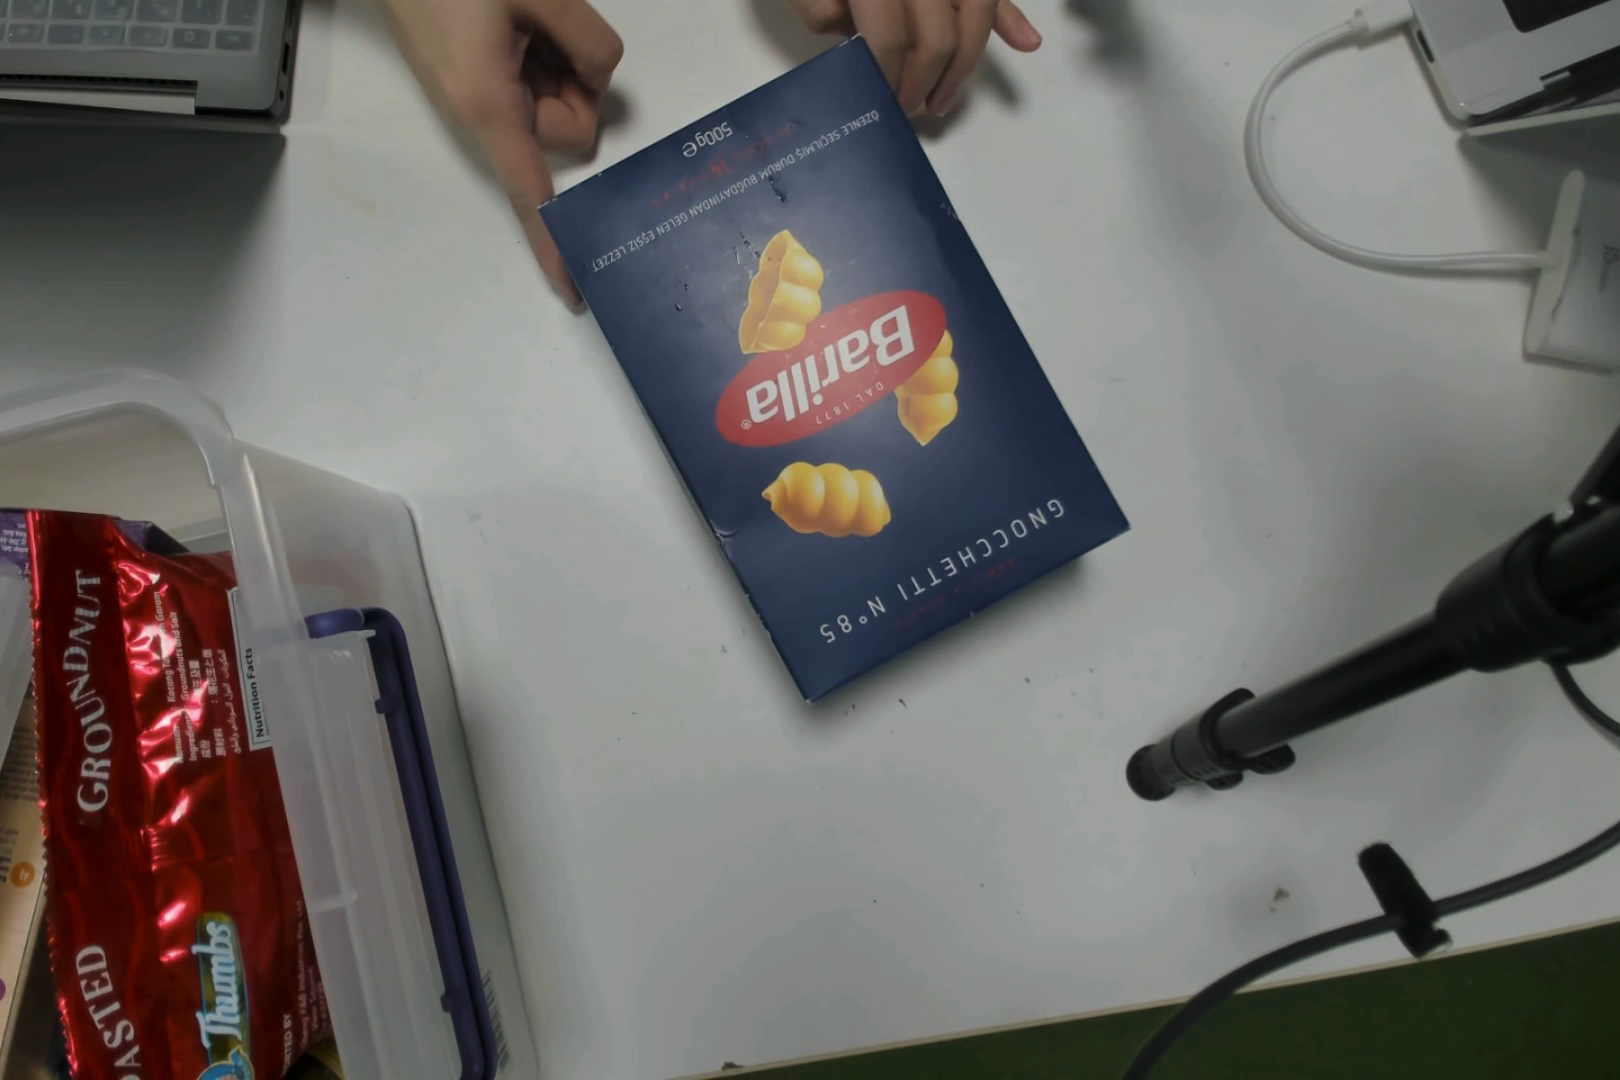Pasta_500-599g_NonHalal_NonHealthy: (656, 128, 1066, 636)
